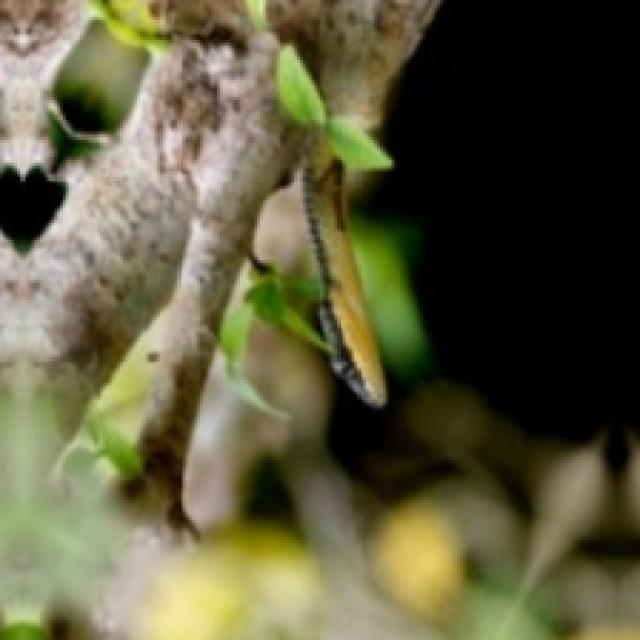paradise tree snake: (0, 0, 383, 423), (303, 146, 386, 406)
